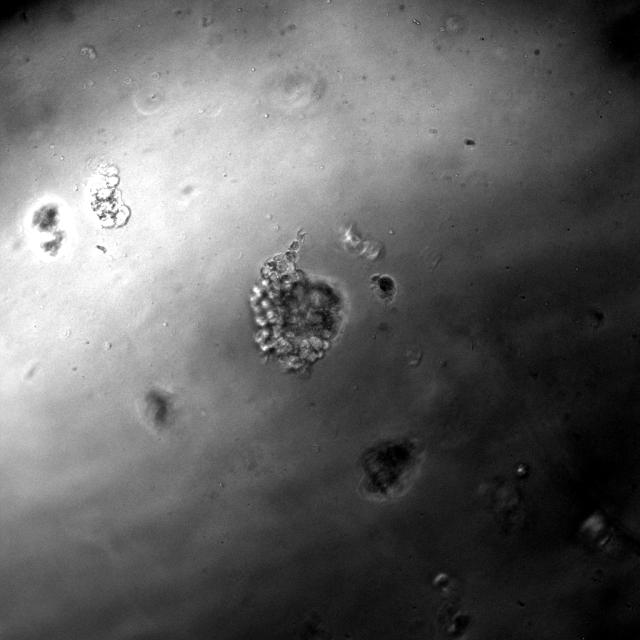organoid: (250, 234, 344, 372), (359, 435, 424, 502), (85, 158, 130, 228), (24, 197, 72, 261), (432, 573, 471, 639), (137, 386, 176, 438), (341, 223, 382, 261), (370, 274, 396, 302)
